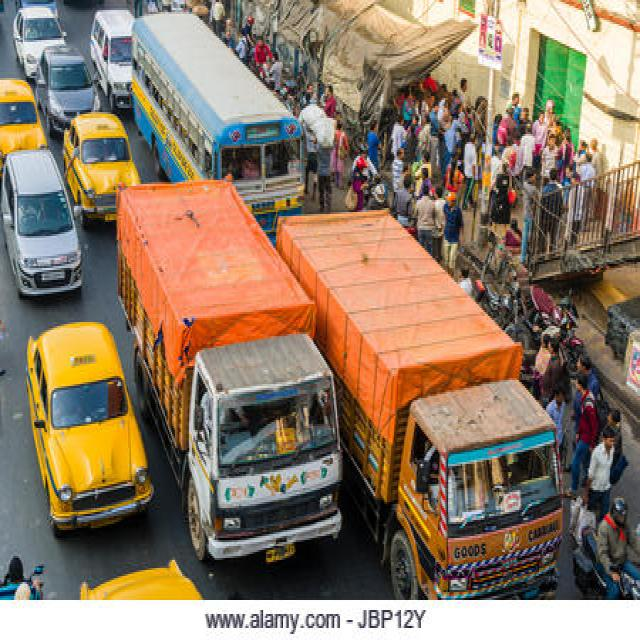Car: (28, 322, 153, 533), (0, 148, 82, 295), (63, 112, 139, 225), (36, 46, 100, 133), (80, 560, 201, 599), (0, 78, 46, 173), (90, 10, 133, 111), (13, 6, 65, 77)
Trucks: (278, 204, 567, 605), (114, 176, 348, 588)
bus: (129, 10, 310, 241)
